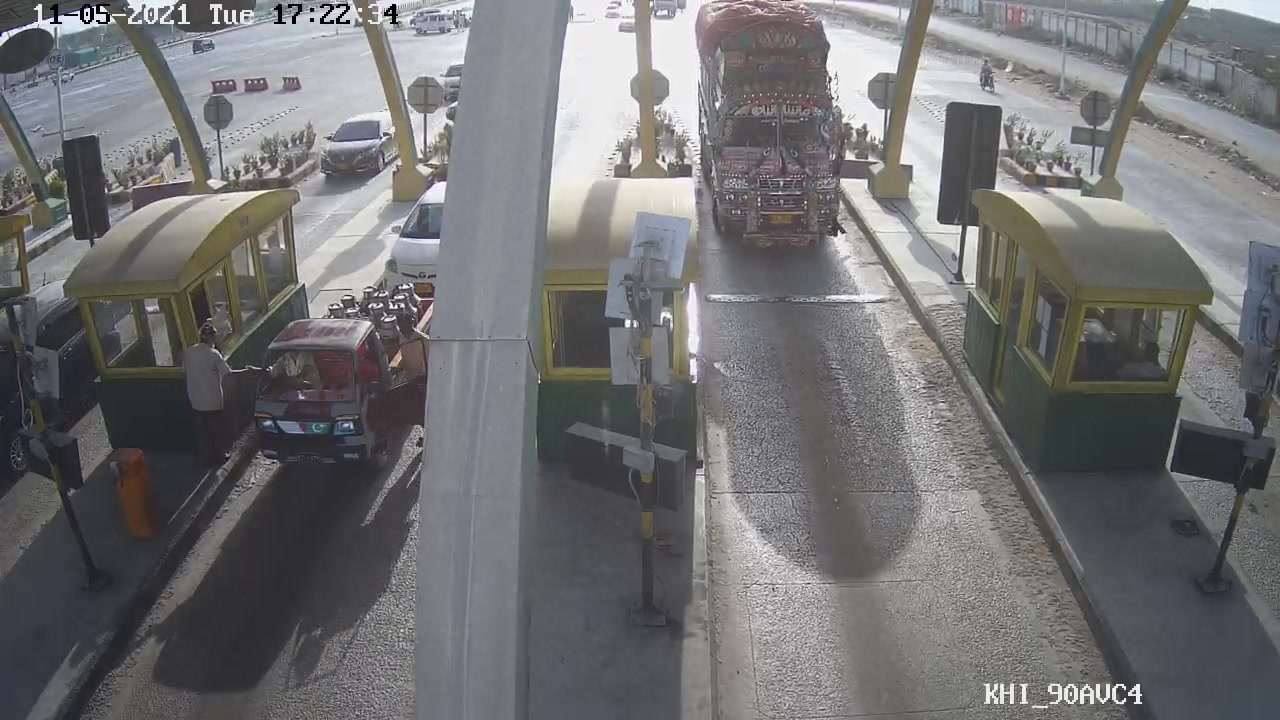F5: (689, 5, 869, 263)
